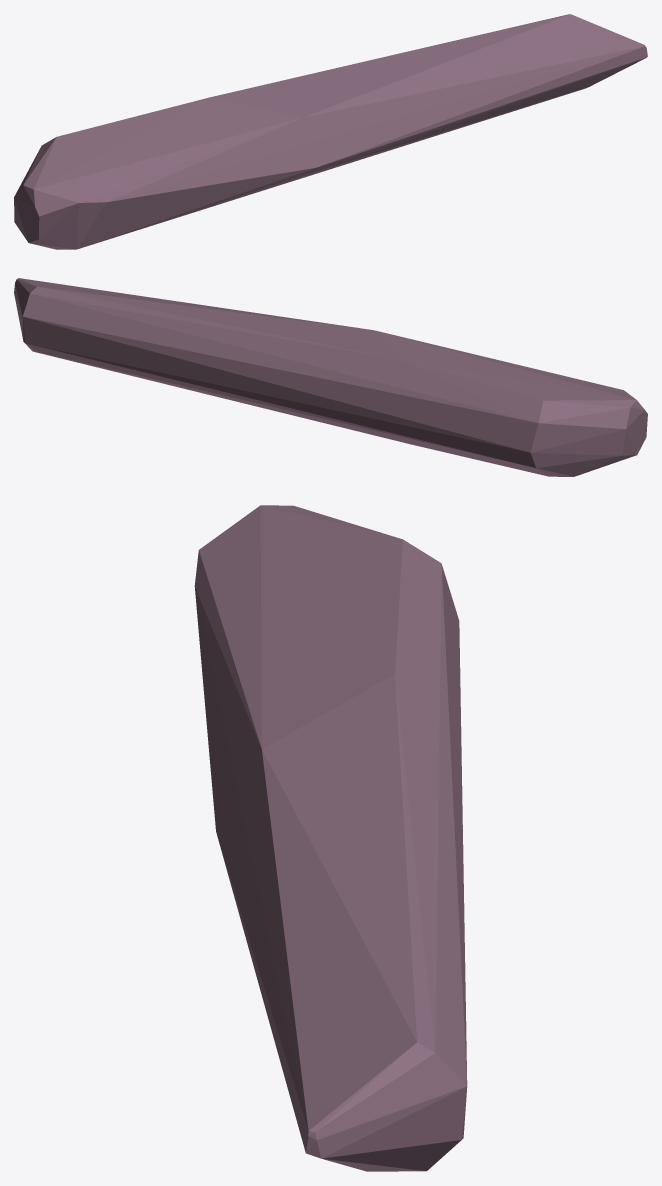
Rendered from serviceTool_extractor_fluidManual_a01.glb.
3 views of the same model, one above another, from view 1: azimuth 30°, elevation 25°; view 2: azimuth 150°, elevation 25°; view 3: azimuth 270°, elevation 25° (orthographic). The views are drawn at different scales.
Visible parts, largest first — view 1: geometry_0; view 2: geometry_0; view 3: geometry_0.
Part boxes in pixels (box(x1,y1,x2,y2)): geometry_0: box(14, 14, 647, 249); geometry_0: box(14, 278, 647, 476); geometry_0: box(194, 505, 467, 1171).
Bounding box in the file's own units: 0.4799 × 0.0638 × 0.0925.
